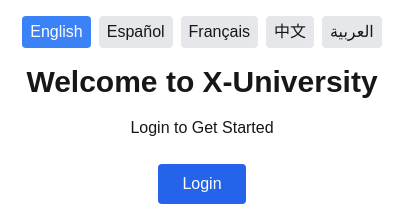
Test: UnauthHome › switches to Spanish when Español button is clicked
The image size is (404, 221).
Click the button "Español". click: (136,32)
box: [99,16,173,48]
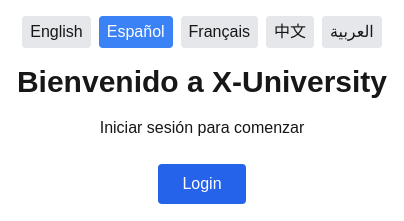
Expected: the heading "Bienvenido a X‑University" is shown, [17,64,387,100]
Expected: the text "Iniciar sesión para comenzar" is shown, [100,116,304,140]
